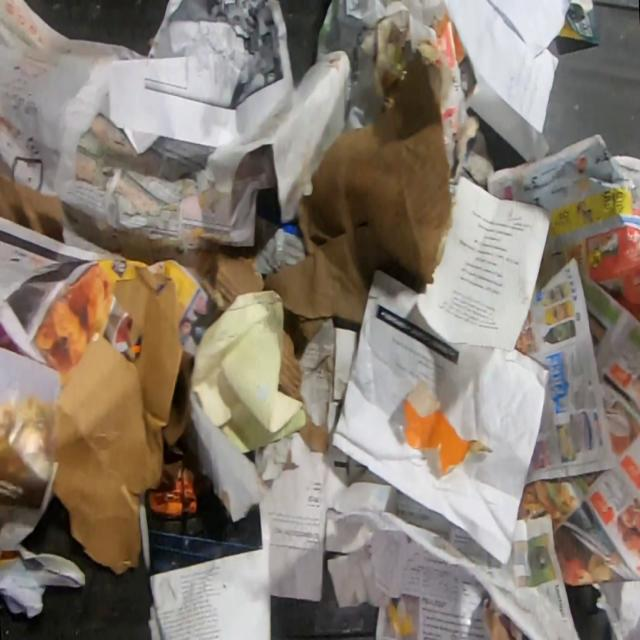cardboard: (33, 258, 200, 435), (49, 335, 164, 577), (0, 167, 65, 241), (147, 448, 210, 519)
